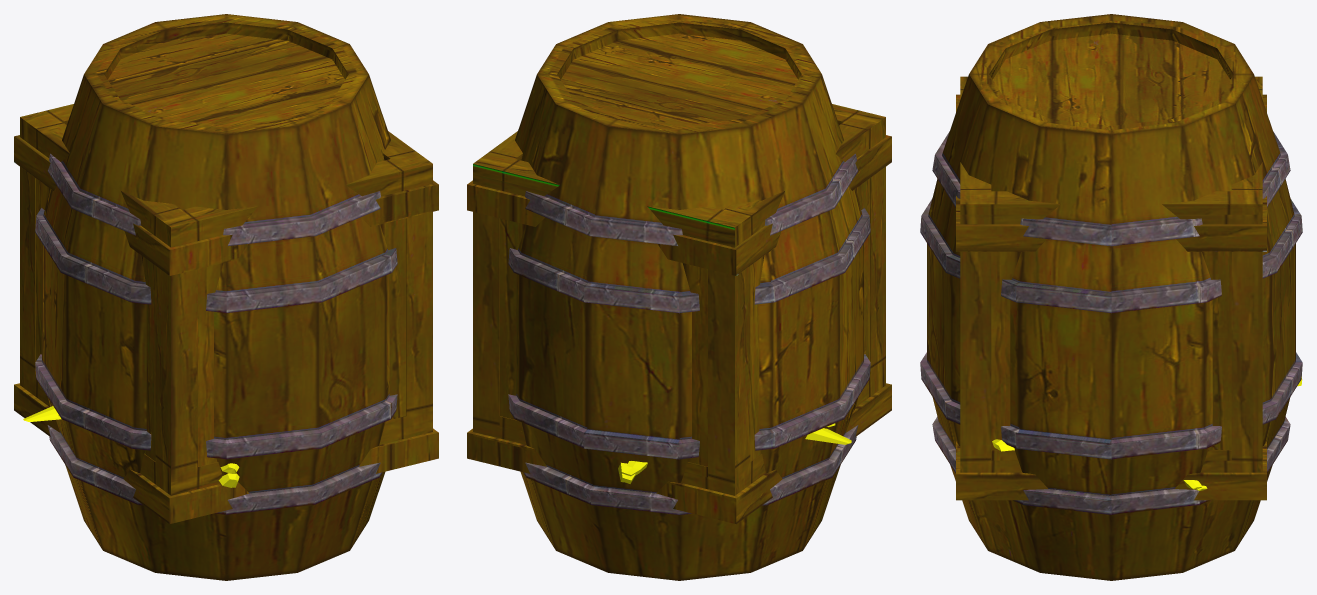
Rendered from asset 1.fbx.
3 renders of one model, left to right at view 1: azimuth 30°, elevation 25°; view 2: azimuth 150°, elevation 25°; view 3: azimuth 270°, elevation 25°, orthographic.
Parts seen in each view (by area): view 1: box4, box1, box3, banana1; view 2: box4, box3, box1, box2, banana1; view 3: box4, box3, box2, box1.
Part boxes in pixels (left/top/right/bottom): box4: left=35, top=14, right=397, bottom=580; box1: left=20, top=104, right=432, bottom=495; box3: left=14, top=135, right=438, bottom=524; banana1: left=23, top=406, right=239, bottom=487; box4: left=508, top=14, right=870, bottom=580; box3: left=467, top=135, right=891, bottom=524; box1: left=473, top=104, right=885, bottom=495; box2: left=473, top=174, right=870, bottom=495; banana1: left=618, top=428, right=851, bottom=483; box4: left=920, top=14, right=1302, bottom=580; box3: left=956, top=94, right=1266, bottom=500; box2: left=960, top=214, right=1262, bottom=472; box1: left=960, top=76, right=1262, bottom=460.
Size of the model in its own units: 26.52 by 32.07 by 24.9.
Materials: 5 (5 with a texture image).
